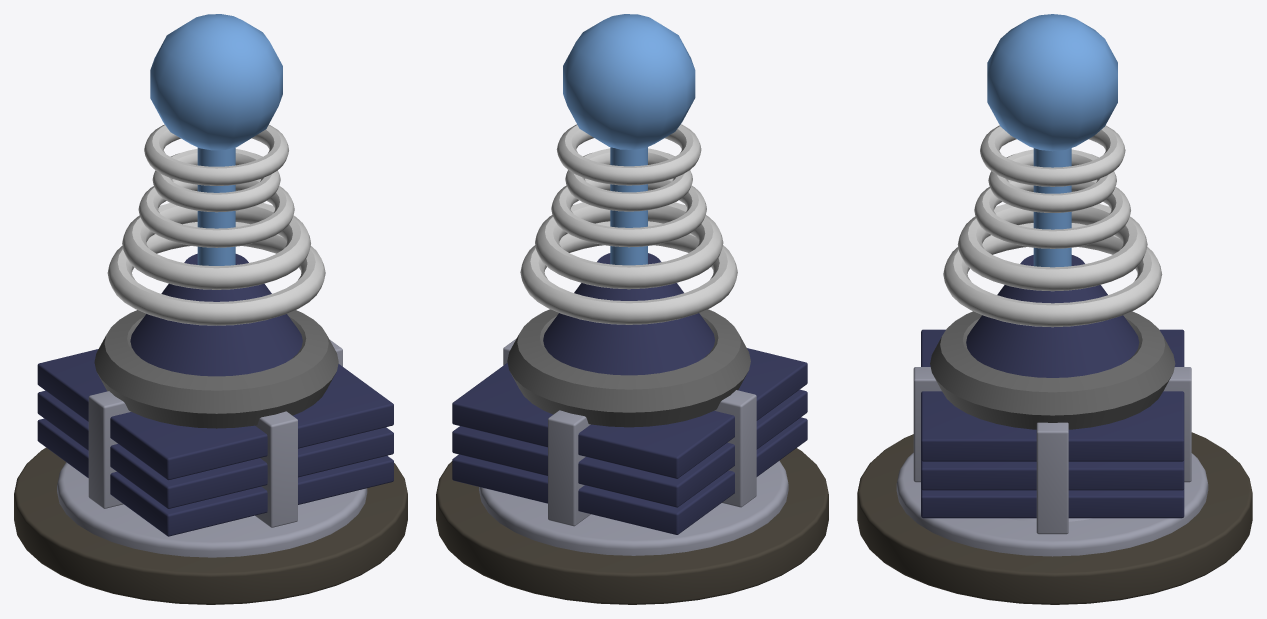
Rendered from tower_10.fbx.
The picture shows the model from 3 angles, left to right: view 1: azimuth 30°, elevation 25°; view 2: azimuth 150°, elevation 25°; view 3: azimuth 270°, elevation 25°; orthographic projection.
Visible parts, largest first — view 1: 立方体_6; view 2: 立方体_6; view 3: 立方体_6.
Boxes of the visible parts, x1,y1,x2,y2 form: 立方体_6: [14, 14, 407, 604]; 立方体_6: [436, 14, 828, 604]; 立方体_6: [857, 14, 1252, 604].
Size of the model in its own units: 77.02 by 108 by 77.02.
